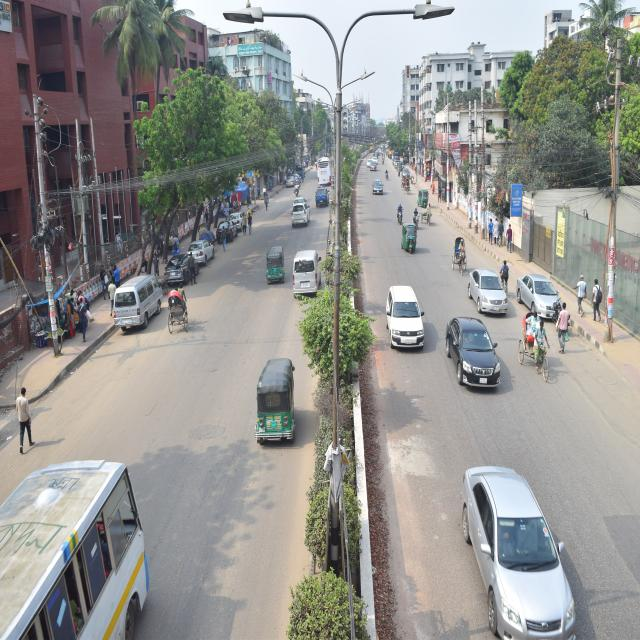bus: (0, 450, 158, 637), (314, 153, 338, 189)
car: (454, 433, 586, 640), (440, 317, 507, 393), (516, 254, 567, 327), (466, 264, 516, 326), (164, 244, 199, 288), (188, 240, 220, 272), (287, 198, 309, 234), (213, 219, 238, 247), (228, 207, 248, 234), (309, 185, 331, 208), (368, 178, 385, 196), (366, 155, 379, 169)
microbus: (102, 272, 172, 336), (385, 281, 429, 354), (290, 238, 320, 302)
motorbike: (396, 202, 407, 232), (413, 203, 425, 230), (293, 178, 304, 198)
